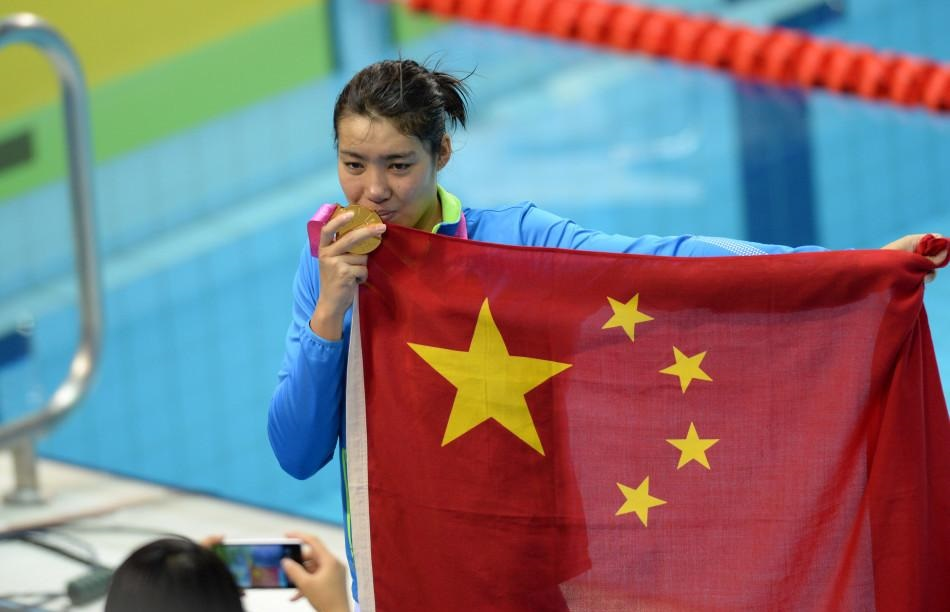face: (338, 114, 437, 228)
